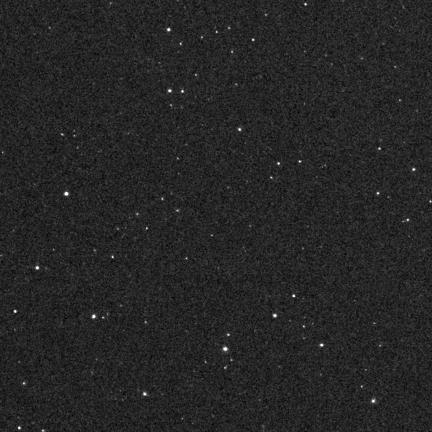blob: (64, 192, 69, 196)
